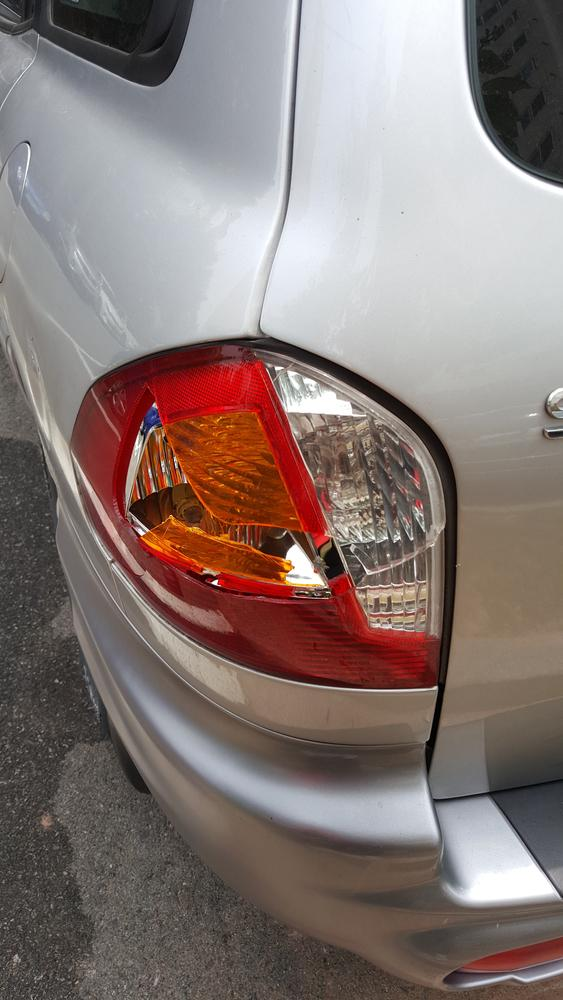lamp broken: (71, 343, 449, 690)
scratch: (17, 173, 138, 352)
